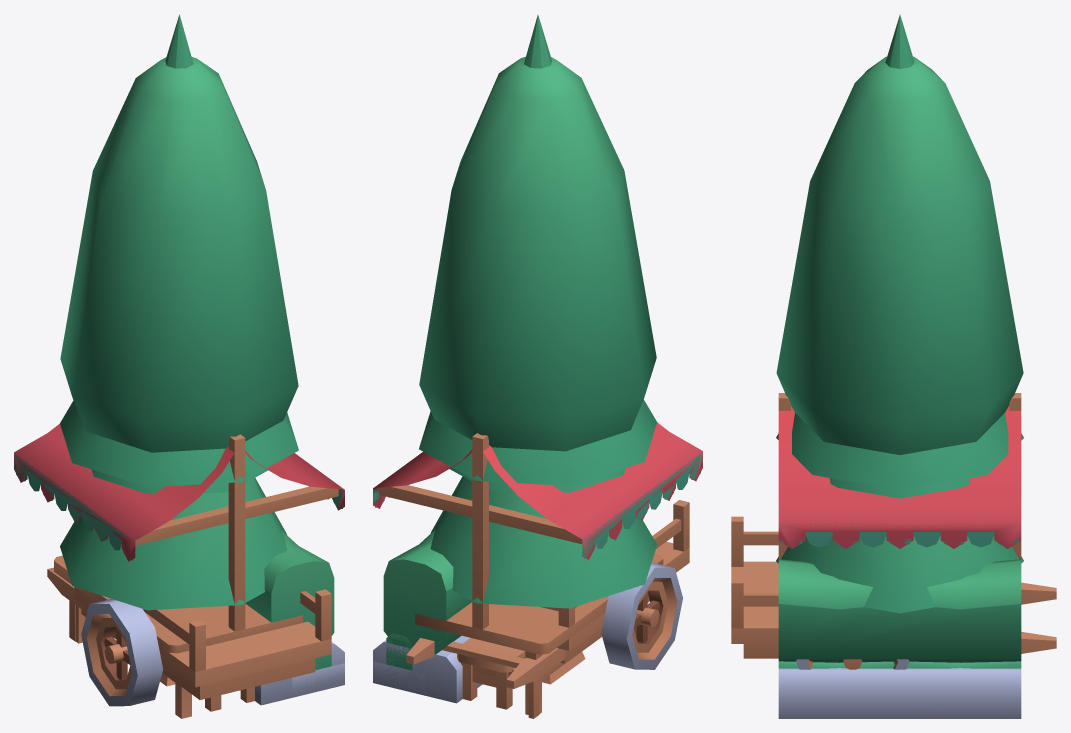
3 views of the same model, side by side, from view 1: azimuth 30°, elevation 25°; view 2: azimuth 150°, elevation 25°; view 3: azimuth 270°, elevation 25° (orthographic).
Parts seen in each view (by area): view 1: tree-high-round, stall-red, tree, cart, tree-high, Group, hedge-large, stall-green, hedge; view 2: tree-high-round, stall-red, tree, hedge-large, tree-high, Group, cart, stall-bench, stall-green, hedge; view 3: tree-high-round, hedge-large, stall-red, tree, tree-high, cart, hedge, stall-green.
Part boxes in pixels (left/top/right/bottom): tree-high-round: left=60, top=57, right=298, bottom=686; stall-red: left=14, top=423, right=344, bottom=718; tree: left=60, top=469, right=287, bottom=610; cart: left=47, top=567, right=331, bottom=699; tree-high: left=60, top=14, right=298, bottom=487; Group: left=81, top=598, right=163, bottom=706; hedge-large: left=245, top=531, right=344, bottom=705; stall-green: left=14, top=453, right=344, bottom=560; hedge: left=292, top=654, right=344, bottom=695; tree-high-round: left=419, top=56, right=656, bottom=684; stall-red: left=373, top=422, right=702, bottom=714; tree: left=430, top=467, right=657, bottom=608; hedge-large: left=373, top=529, right=482, bottom=703; tree-high: left=419, top=15, right=656, bottom=485; Group: left=601, top=562, right=682, bottom=669; cart: left=406, top=500, right=689, bottom=718; stall-bench: left=457, top=638, right=525, bottom=709; stall-green: left=373, top=451, right=702, bottom=558; hedge: left=373, top=633, right=425, bottom=695; tree-high-round: left=776, top=56, right=1023, bottom=454; hedge-large: left=778, top=559, right=1021, bottom=696; stall-red: left=778, top=393, right=1021, bottom=559; tree: left=776, top=478, right=1023, bottom=613; tree-high: left=776, top=14, right=1023, bottom=490; cart: left=731, top=516, right=1056, bottom=658; hedge: left=778, top=661, right=1021, bottom=718; stall-green: left=781, top=523, right=1021, bottom=547.
Bounding box in the file's own units: 1.02 × 2.97 × 1.34.
1 material, 1 textured.
